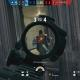Character: (32, 30, 51, 56)
Friend_label: (74, 28, 77, 31)
Head: (38, 30, 44, 38)
